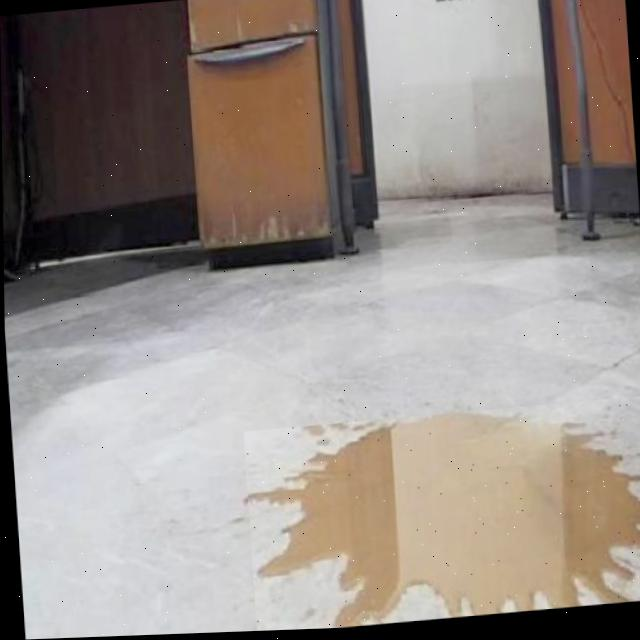spillage: (247, 418, 640, 628)
